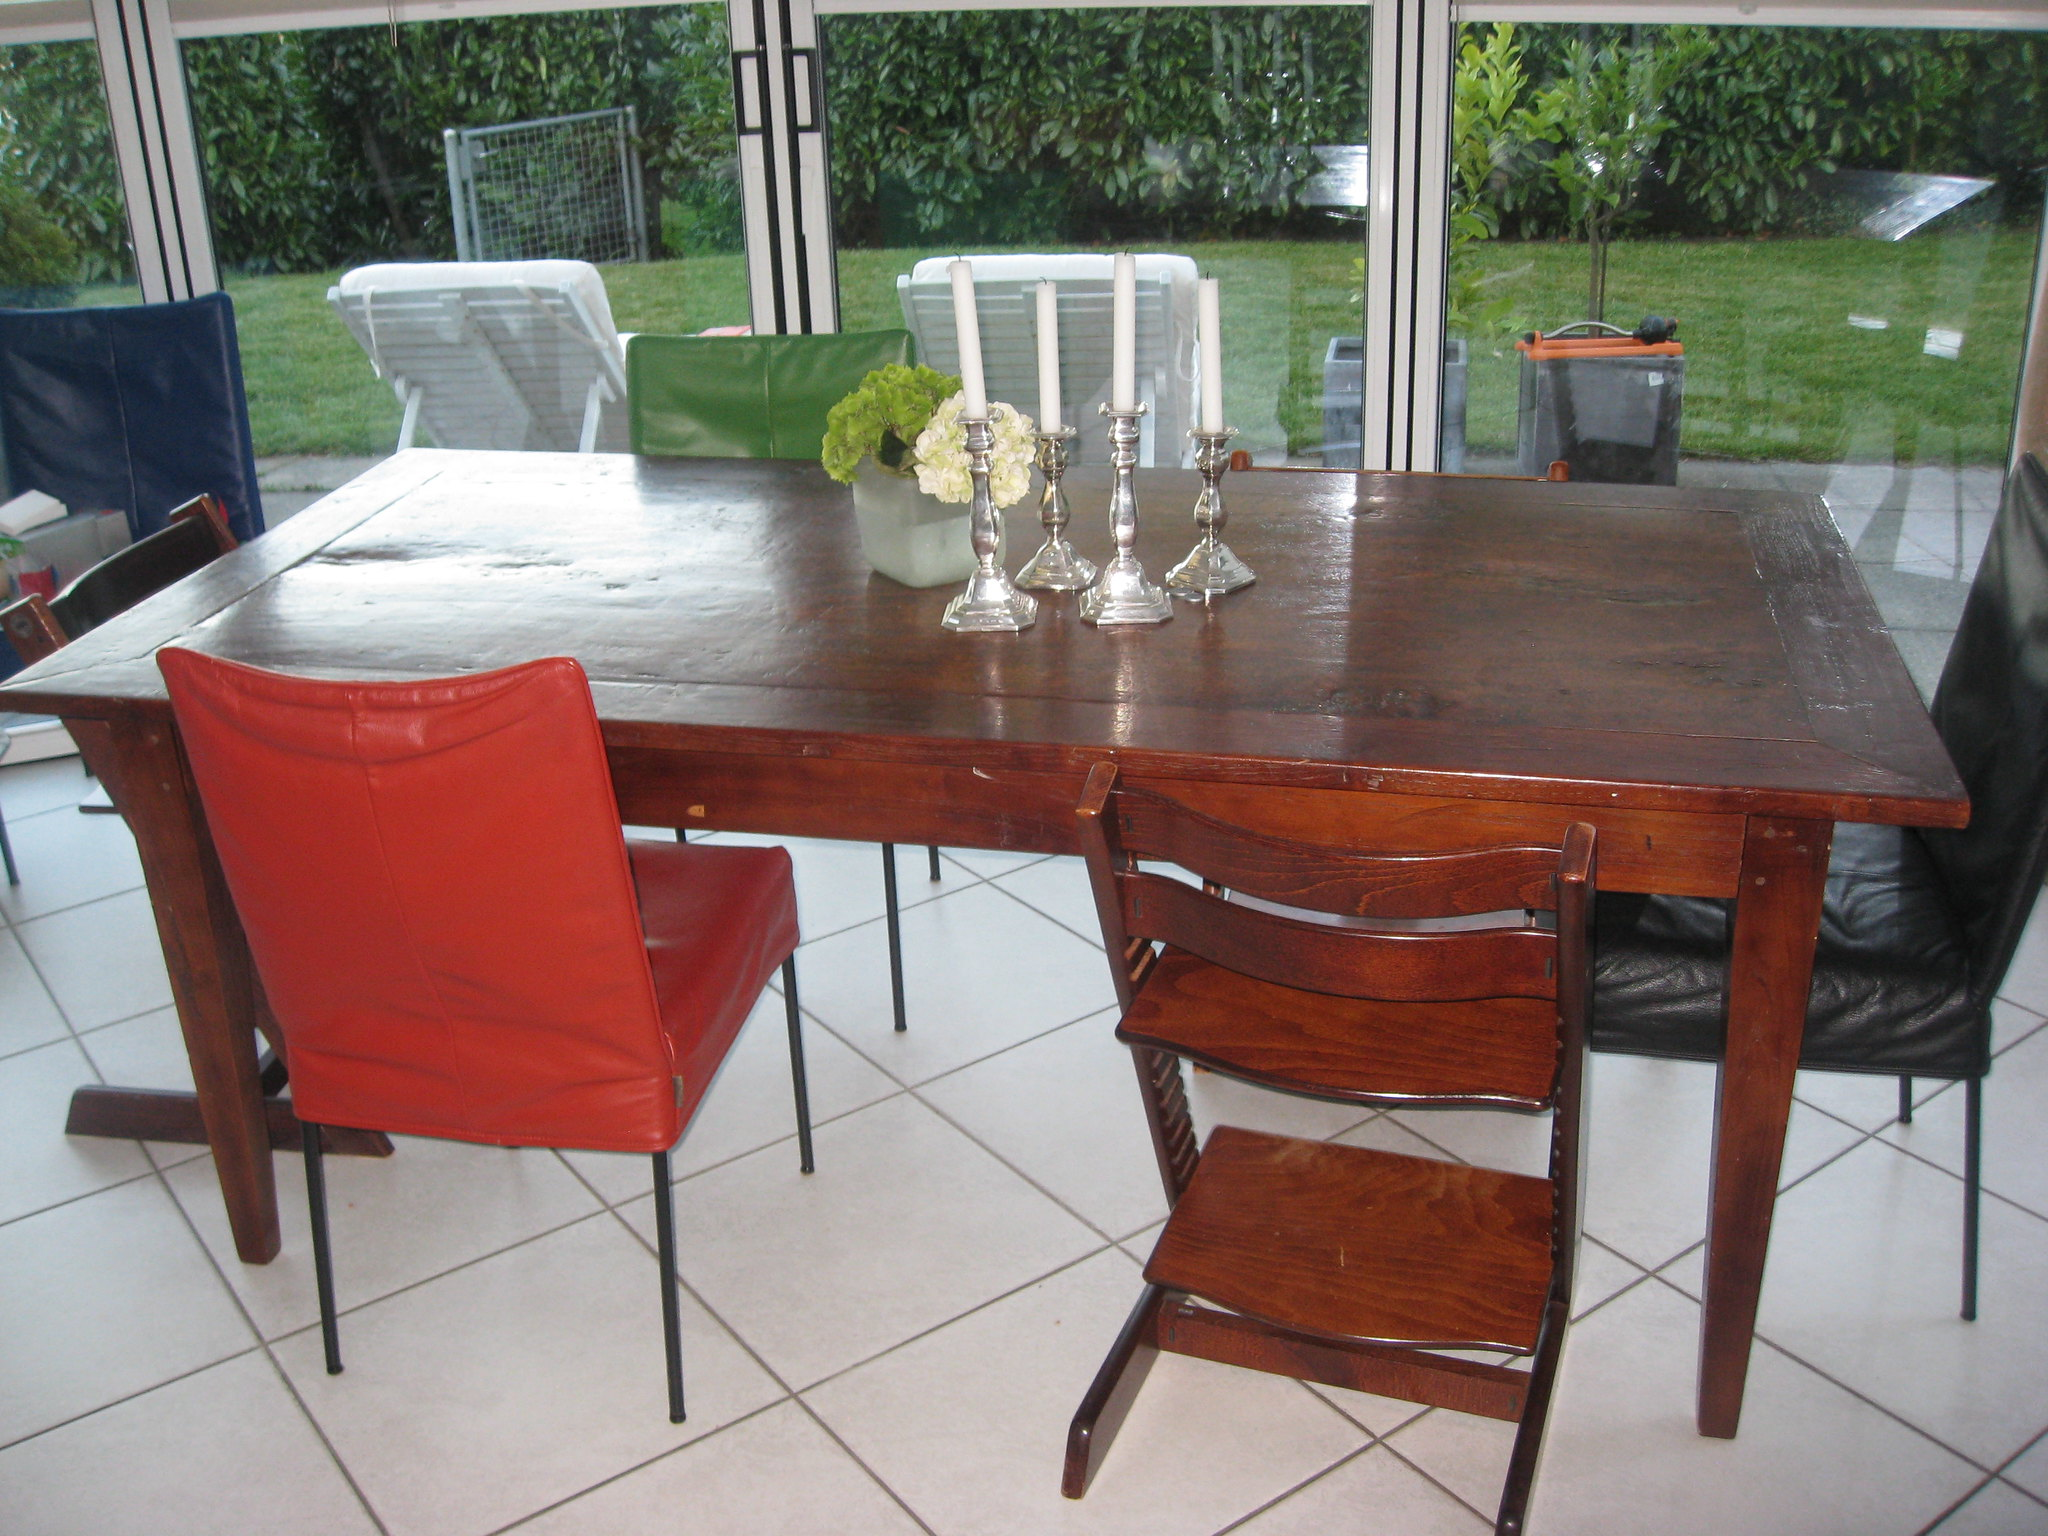chair: (139, 632, 868, 1394)
dining table: (26, 424, 1908, 1449)
